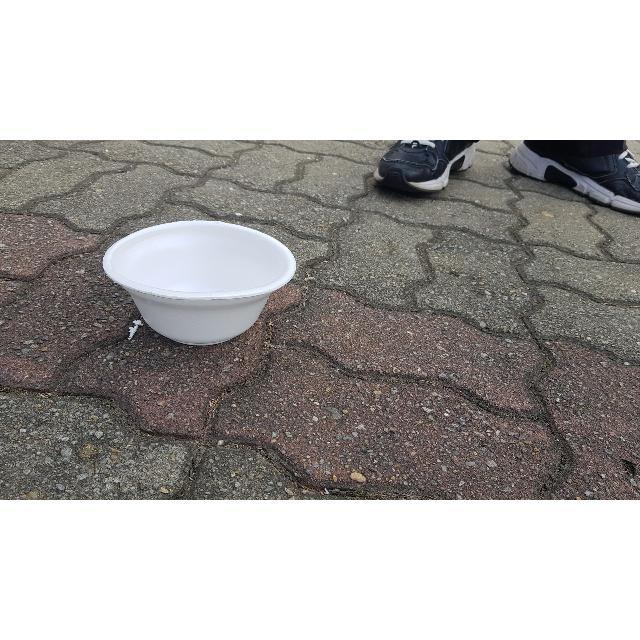Plastico descartable: (102, 221, 298, 348)
